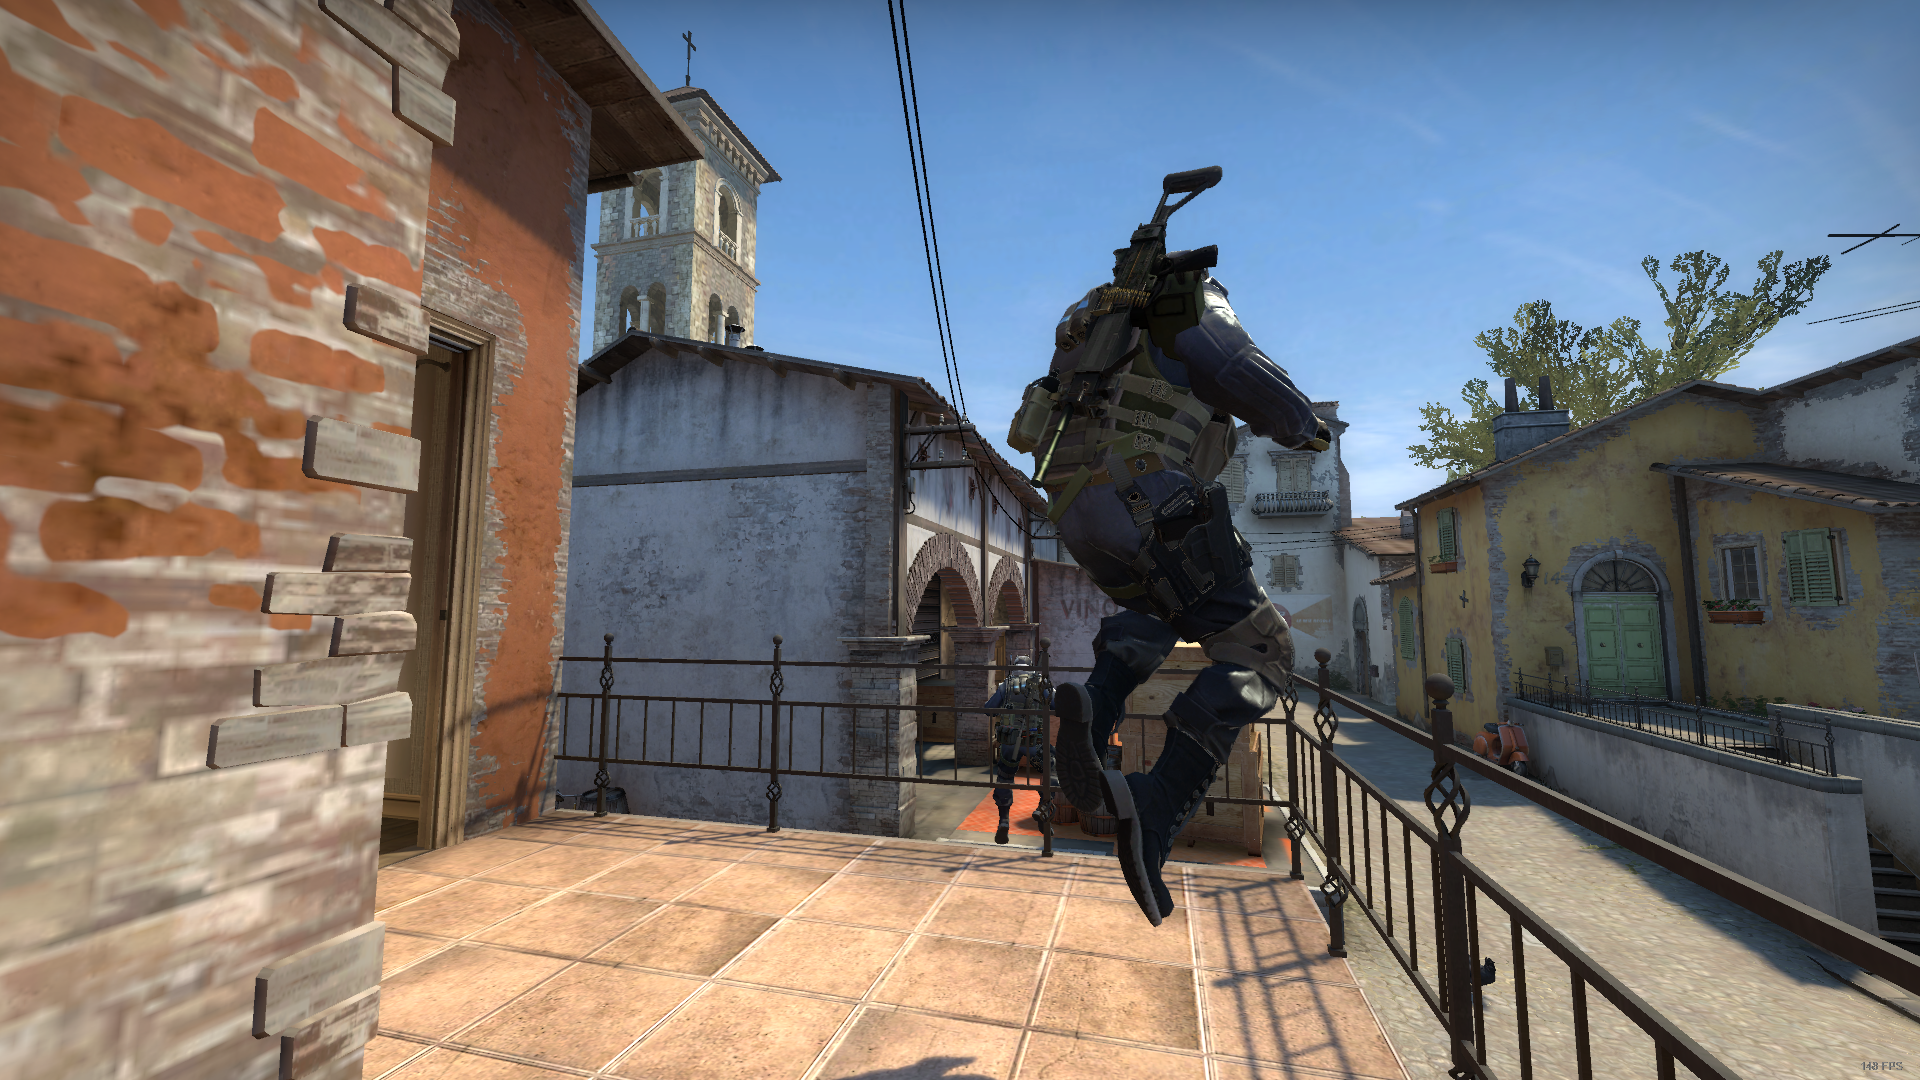ct: (1011, 194, 1352, 947), (989, 653, 1060, 847)
